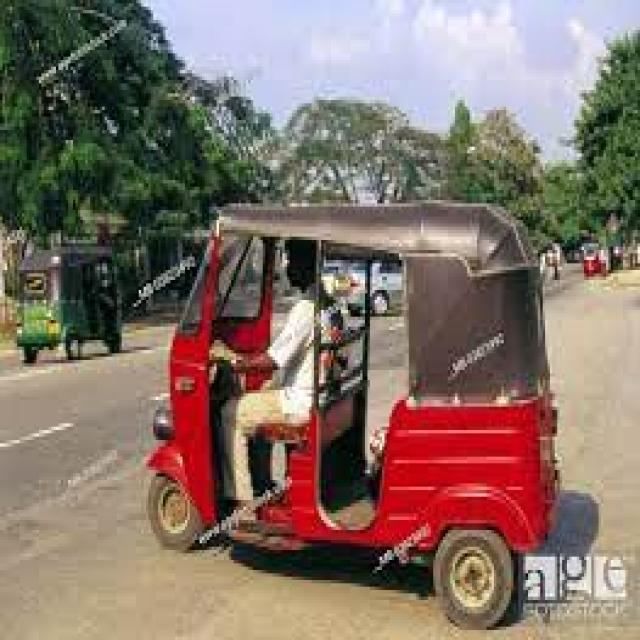person: (196, 274, 275, 575)
three wheeler: (130, 232, 486, 640), (15, 282, 105, 415), (512, 278, 533, 316)
